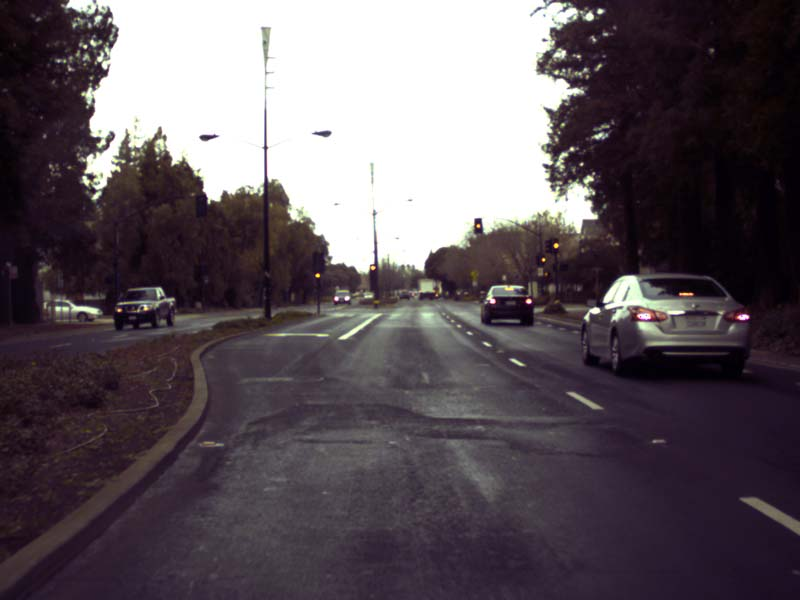Red: (369, 264, 377, 281), (474, 218, 483, 233), (314, 271, 321, 290), (551, 237, 558, 251), (540, 253, 545, 268)
